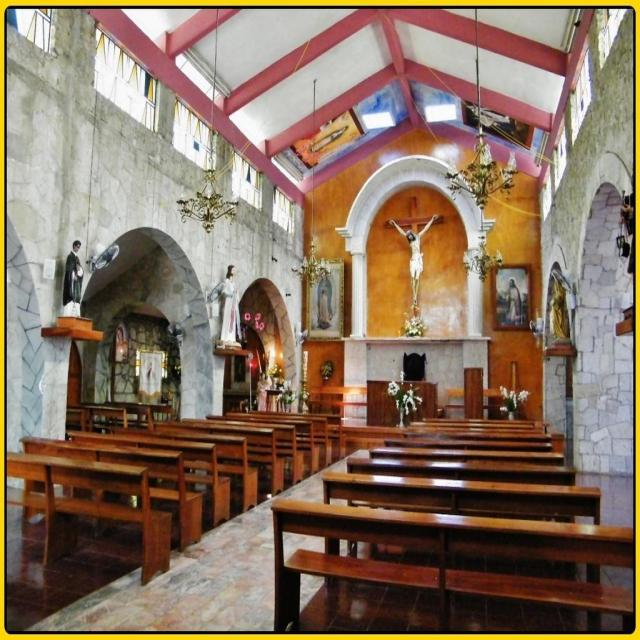table: (363, 375, 441, 426)
